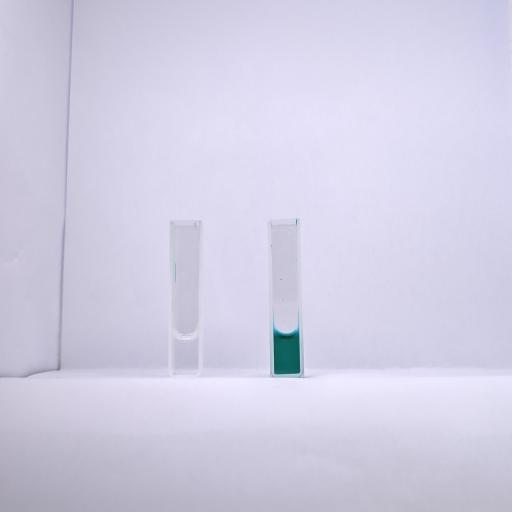cuvette: (266, 216, 306, 380), (167, 218, 204, 380)
liquid: (172, 332, 199, 376), (274, 330, 300, 374)
